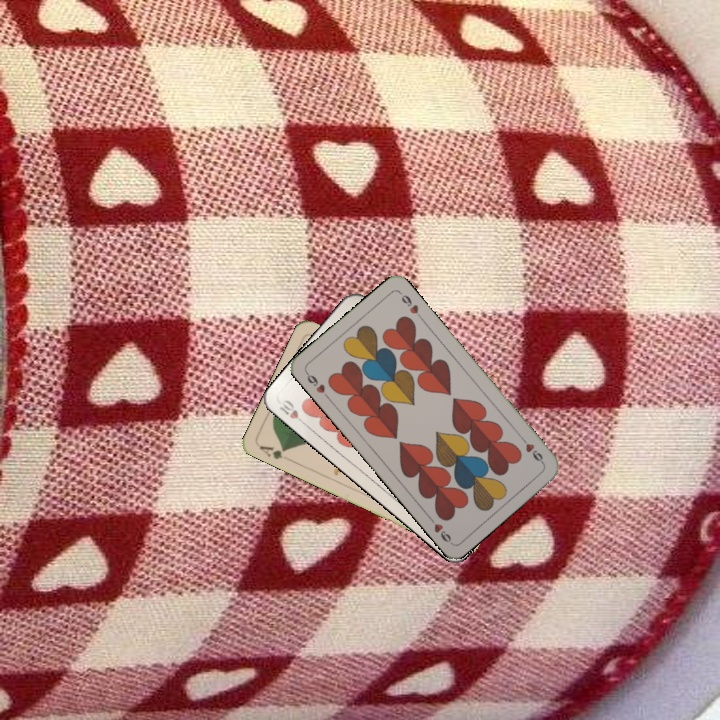GA: (255, 441, 289, 462)
H10: (275, 396, 309, 429)
H9: (302, 368, 332, 402), (517, 432, 546, 467)
